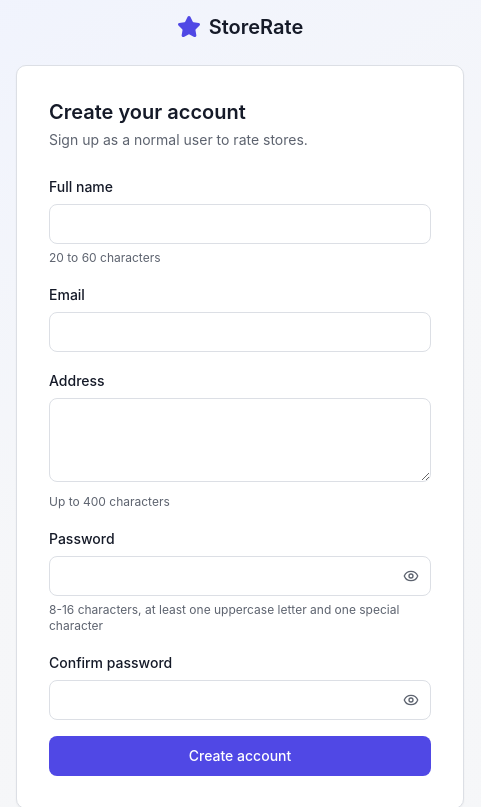
it: SignupPage › enforces name, password and confirmation rules inline
Step 1. Type "Too short" into the field labelled "Full name" → [240, 224], box x1=49 y1=204 x2=431 y2=244
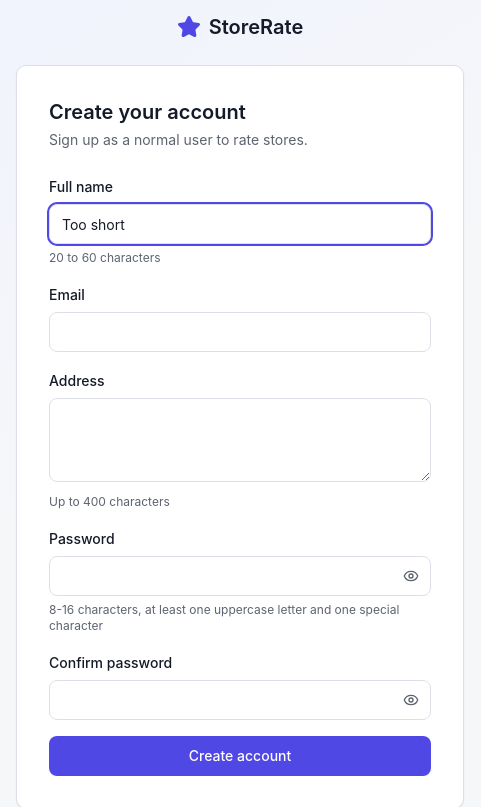
Step 2. Type "a@b.co" into the field labelled "Email" → [240, 332], box x1=49 y1=312 x2=431 y2=352
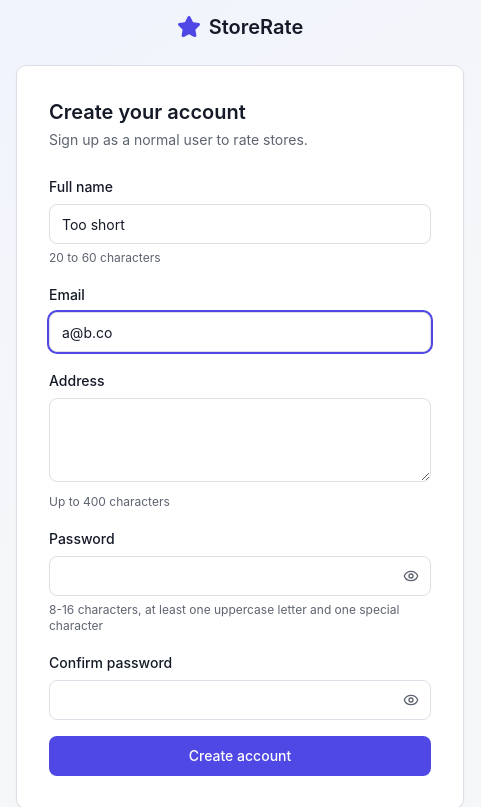
Step 3. Type "1 Road" into the text box labelled "Address" → [240, 440], box x1=49 y1=398 x2=431 y2=482
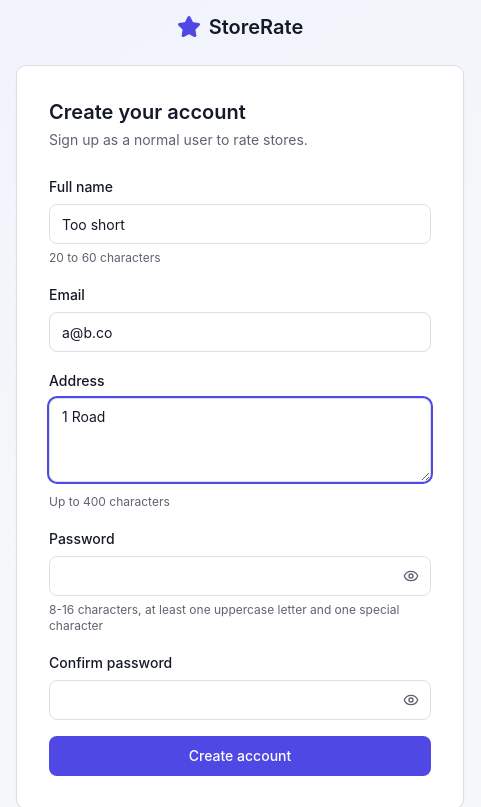
Step 4. Type "weak" into the password field labelled "Password" → [240, 576], box x1=49 y1=556 x2=431 y2=596
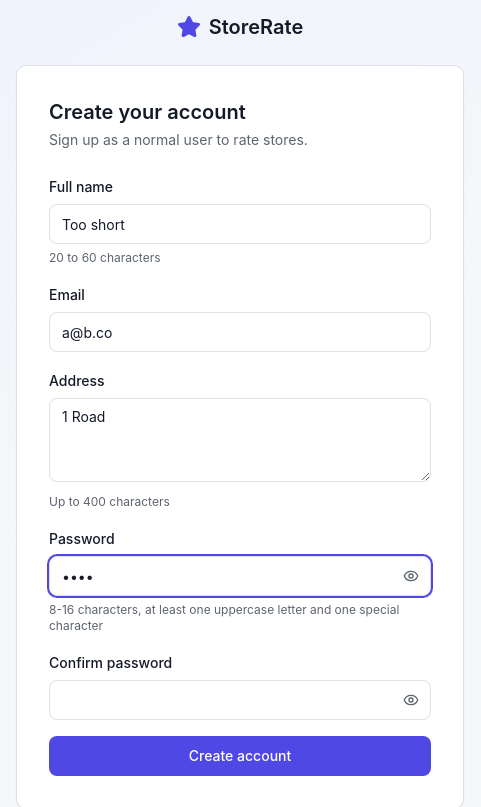
Step 5. Type "different" into the password field labelled "Confirm password" → [240, 700], box x1=49 y1=680 x2=431 y2=720
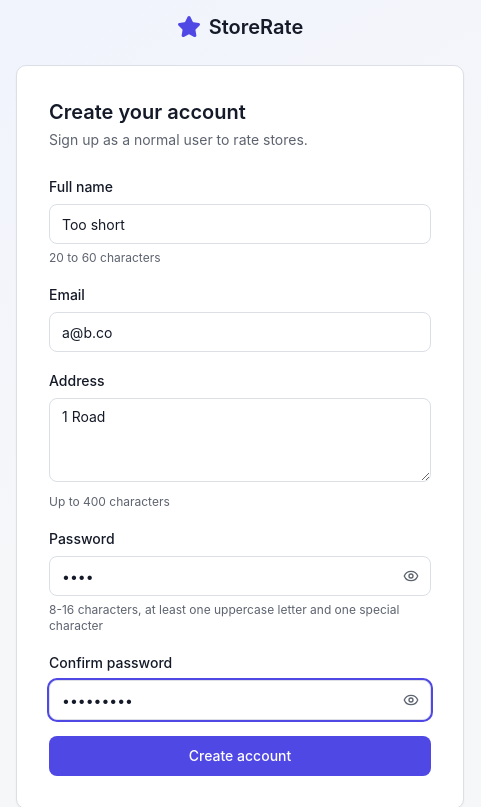
Step 6. Click the button "Create account" → [240, 756], box x1=49 y1=736 x2=431 y2=776
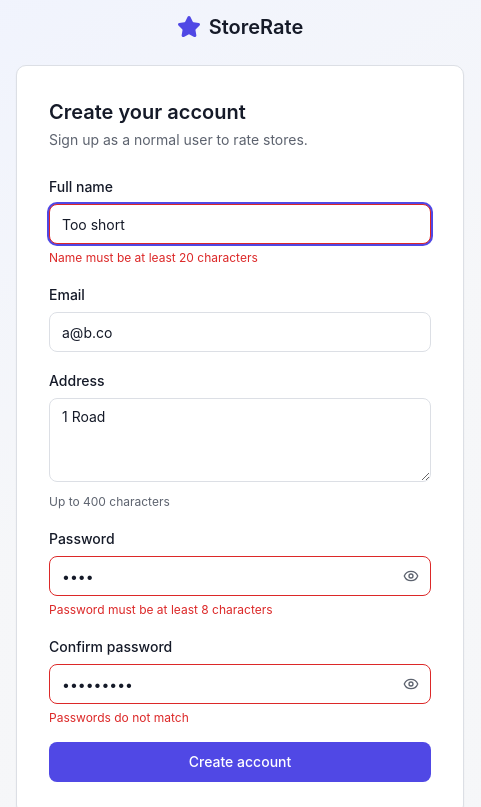
Expected: the text "Name must be at least 20 characters" is shown, x1=49 y1=250 x2=258 y2=265
Expected: the text "Password must be at least 8 characters" is shown, x1=49 y1=602 x2=273 y2=617
Expected: the text "Passwords do not match" is shown, x1=49 y1=710 x2=189 y2=725
